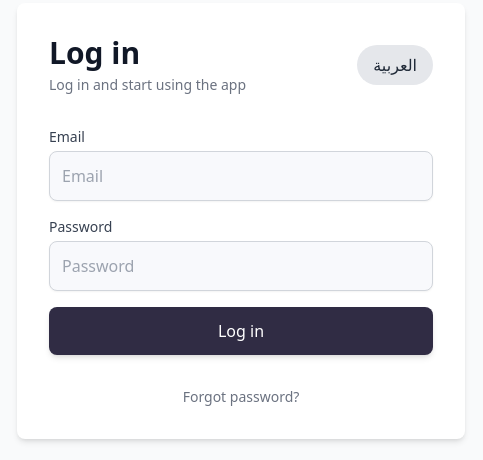
Test: Login Page › allows switching languages
The width and height of the screenshot is (483, 460).
Expected: the heading "Log in" is shown, [49,32,140,73]
Note: Switch to Arabic
Click the button "العربية". click: (395, 65)
box: [357,45,433,85]
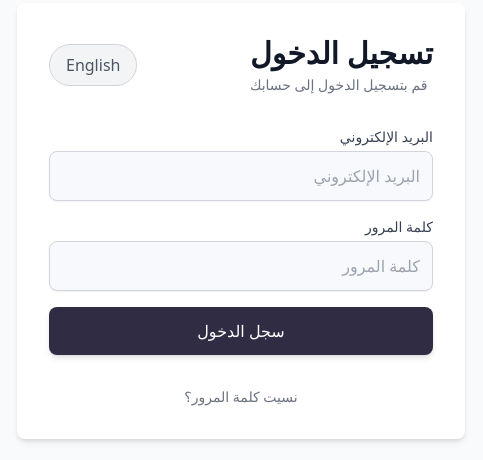
Expected: the heading "تسجيل الدخول" is shown, [250,35,433,71]
